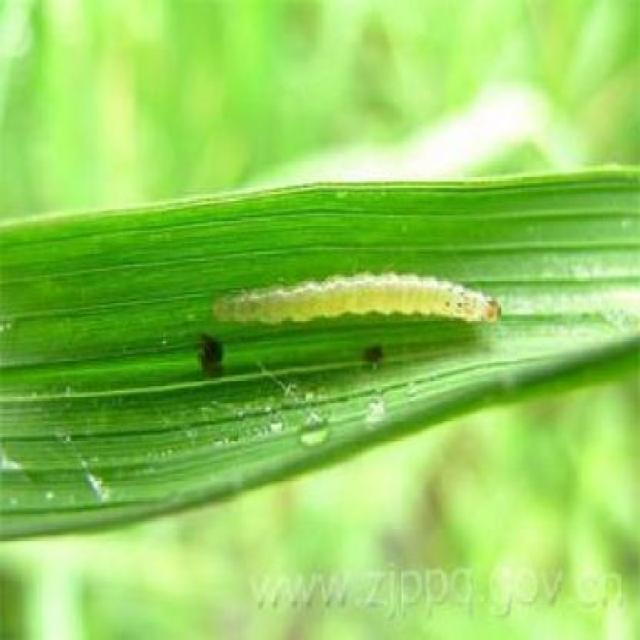leaf-folder: (198, 215, 520, 382)
